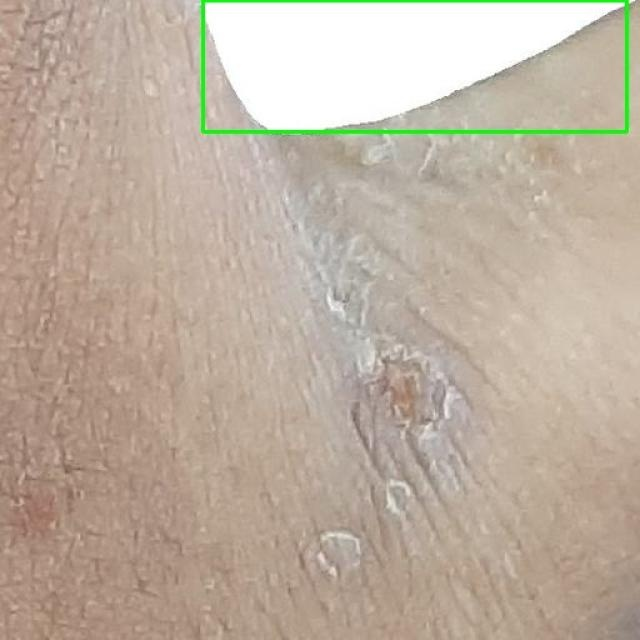Scabies: (202, 0, 626, 131)
